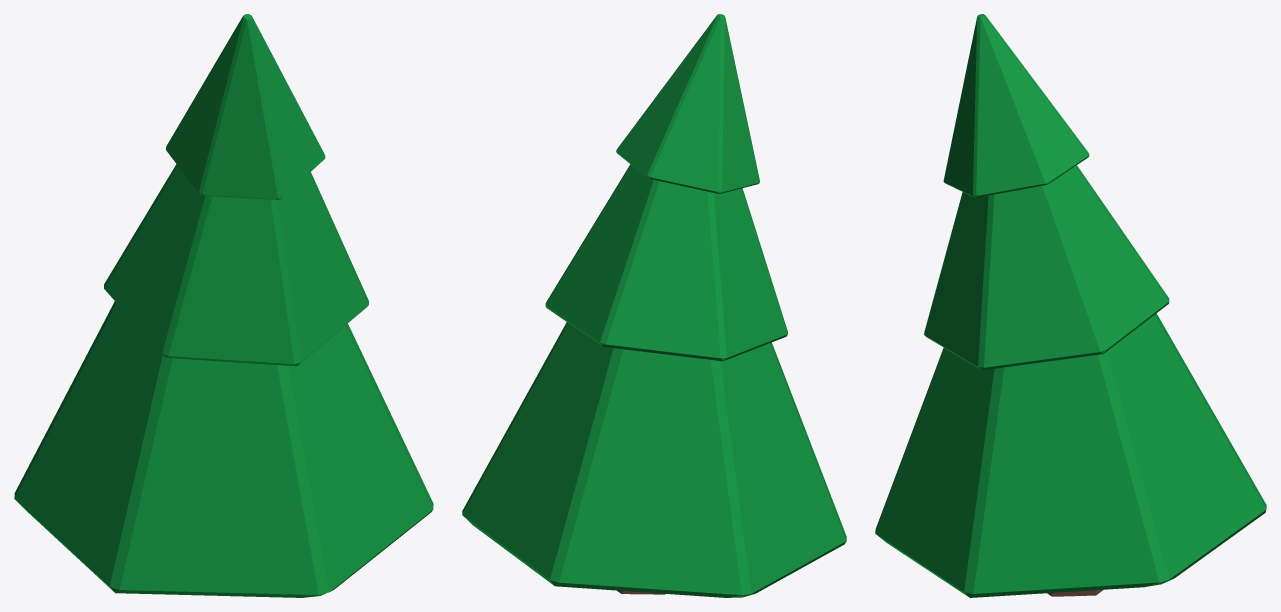
File: pine.fbx
3 renders of one model, left to right at view 1: azimuth 30°, elevation 25°; view 2: azimuth 150°, elevation 25°; view 3: azimuth 270°, elevation 25°, orthographic. The views are drawn at different scales.
Parts seen in each view (by area): view 1: Cone.002; view 2: Cone.002; view 3: Cone.002.
Part boxes in pixels (left/top/right/bottom): Cone.002: left=14, top=14, right=433, bottom=597; Cone.002: left=462, top=14, right=846, bottom=597; Cone.002: left=875, top=14, right=1266, bottom=597.
Bounding box in the file's own units: 190 × 331 × 213.
